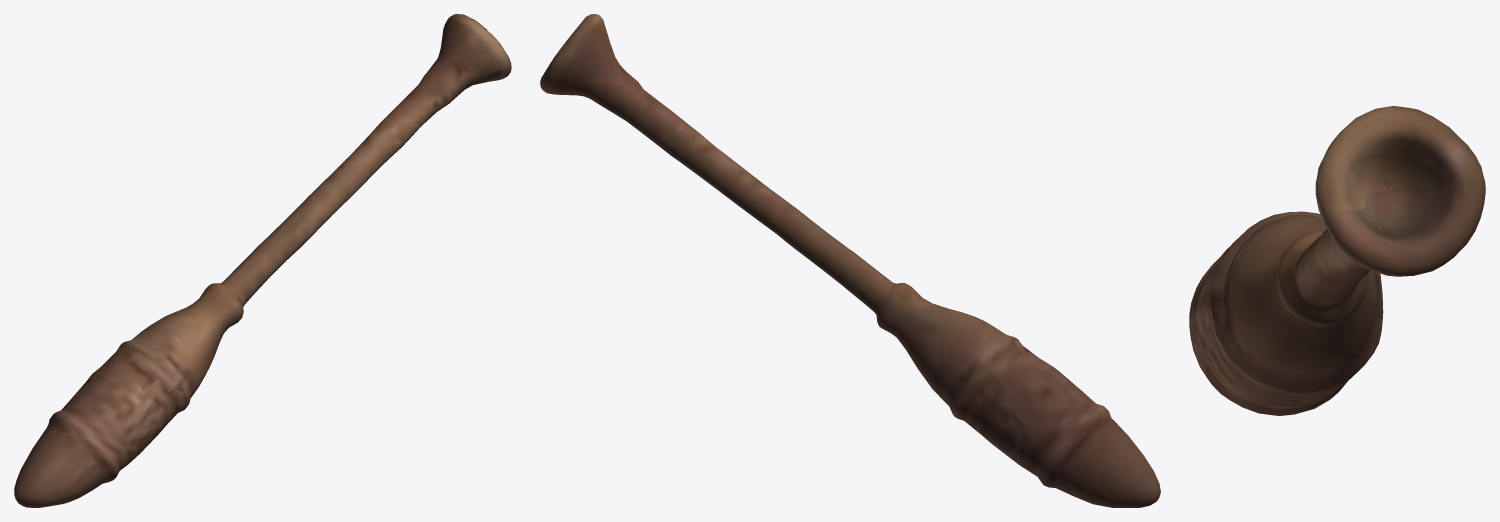
The model's file is v02_mao_pilao.glb.
3 views of the same model, side by side, from view 1: azimuth 30°, elevation 25°; view 2: azimuth 150°, elevation 25°; view 3: azimuth 270°, elevation 25° (orthographic). The views are drawn at different scales.
Parts seen in each view (by area): view 1: v02_mao_pilao; view 2: v02_mao_pilao; view 3: v02_mao_pilao.
Part boxes in pixels (x1,y1,x2,y2): v02_mao_pilao: [14, 14, 511, 507]; v02_mao_pilao: [540, 14, 1160, 507]; v02_mao_pilao: [1189, 106, 1485, 415].
Bounding box in the file's own units: 0.839 × 0.5466 × 0.2067.
Materials: 1 (1 with a texture image).
